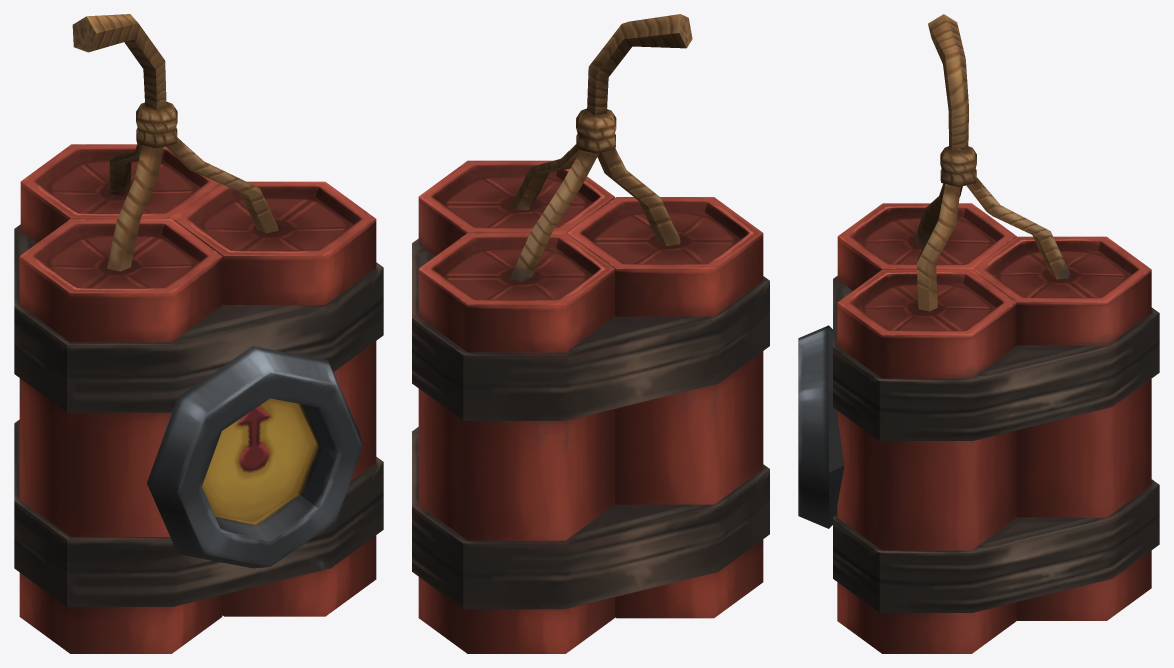
File: 57_dynamite.FBX
3 views of the same model, side by side, from view 1: azimuth 30°, elevation 25°; view 2: azimuth 150°, elevation 25°; view 3: azimuth 270°, elevation 25° (orthographic). The views are drawn at different scales.
Visible parts, largest first — view 1: Object050; view 2: Object050; view 3: Object050.
Boxes of the visible parts, x1,y1,x2,y2 form: Object050: [14, 14, 383, 653]; Object050: [412, 14, 769, 653]; Object050: [798, 14, 1159, 653].
Bounding box in the file's own units: 27.85 × 50.4 × 31.12.
